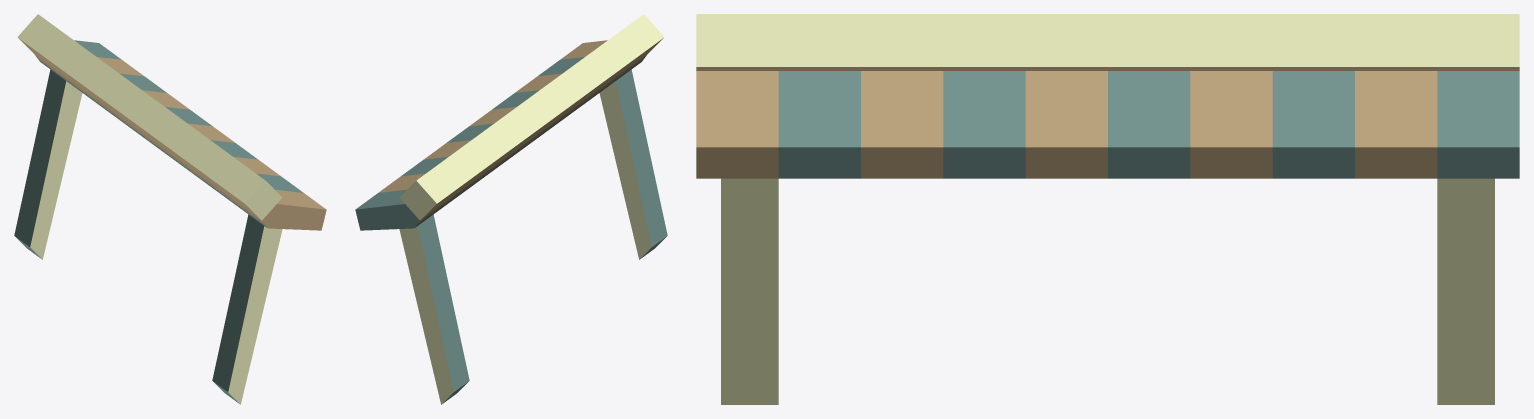
The model's file is ToldoDobleSubido.fbx.
3 views of the same model, side by side, from view 1: azimuth 30°, elevation 25°; view 2: azimuth 150°, elevation 25°; view 3: azimuth 270°, elevation 25° (orthographic). The views are drawn at different scales.
Parts seen in each view (by area): view 1: Cube.038; view 2: Cube.038; view 3: Cube.038.
Part boxes in pixels (x1,y1,x2,y2): Cube.038: (14, 14, 326, 404); Cube.038: (355, 14, 667, 404); Cube.038: (696, 14, 1519, 404).
Bounding box in the file's own units: 18.76 × 43.97 × 80.64.
